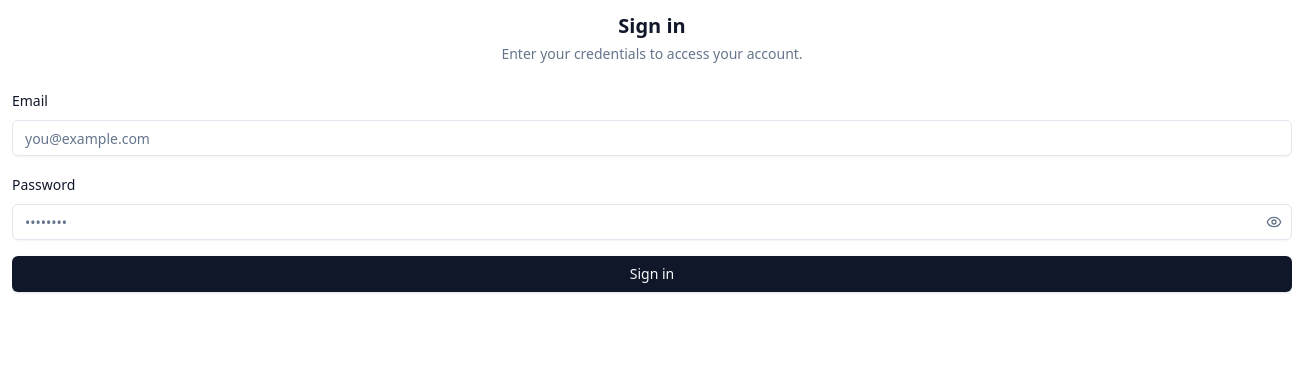
LoginForm › shows validation errors when submitted empty
Click the button "Sign in": (652,274) [12,256,1292,292]
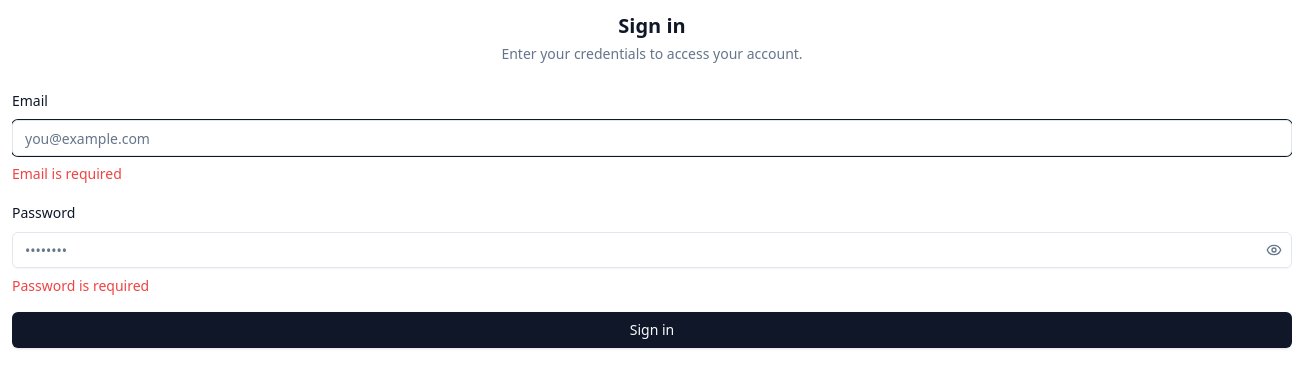
Expected: the text "Email is required" is shown, [12,164,122,183]
Expected: the text "Password is required" is shown, [12,276,149,295]
